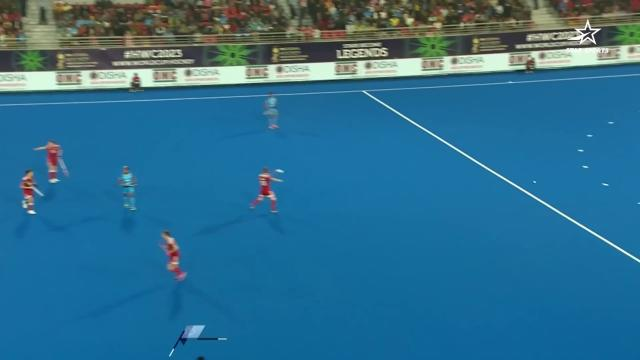ball: (269, 162, 295, 178)
